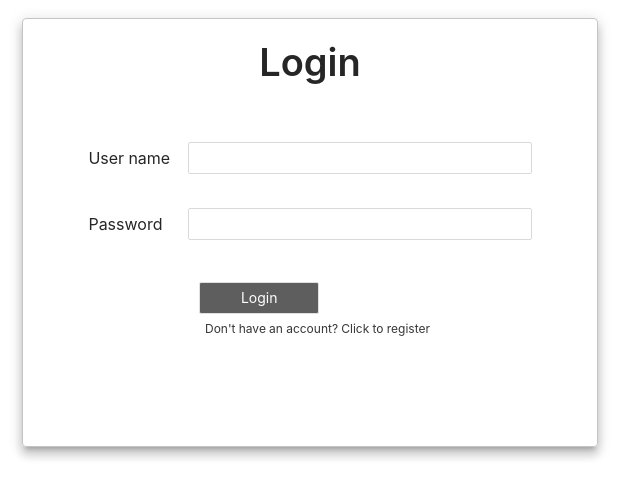
rendering of footer buttons › rendering of login button › login button enable
In the field with test id "username": (360, 158) left=188, top=142, right=532, bottom=174, type "rupesh"
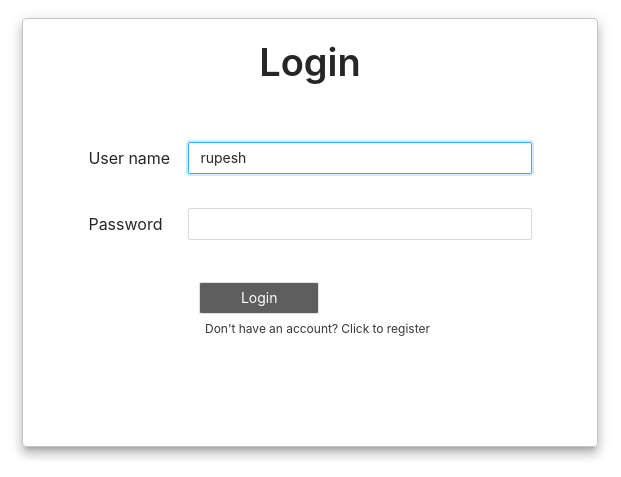
In the password field with test id "password": (360, 224) left=188, top=208, right=532, bottom=240, type "rupesh@123"
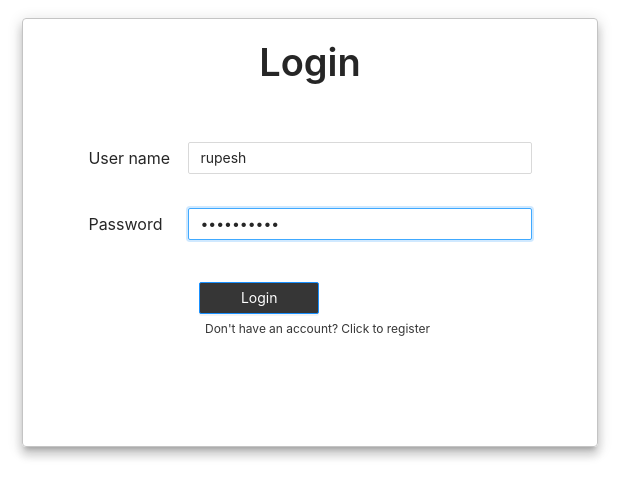
Expected: the button with test id "login-button" is enabled, left=199, top=282, right=319, bottom=314
